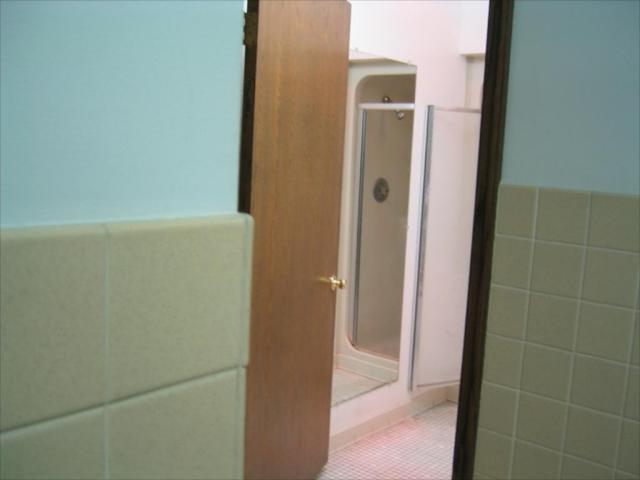Door-handle: (331, 274, 346, 292)
